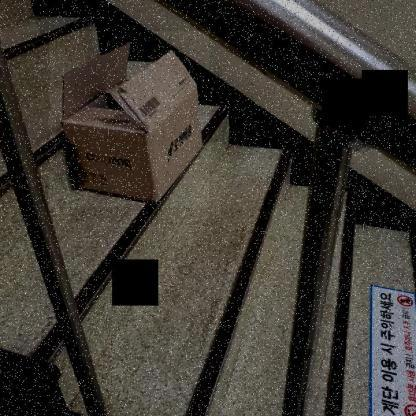-: (50, 31, 209, 207)
